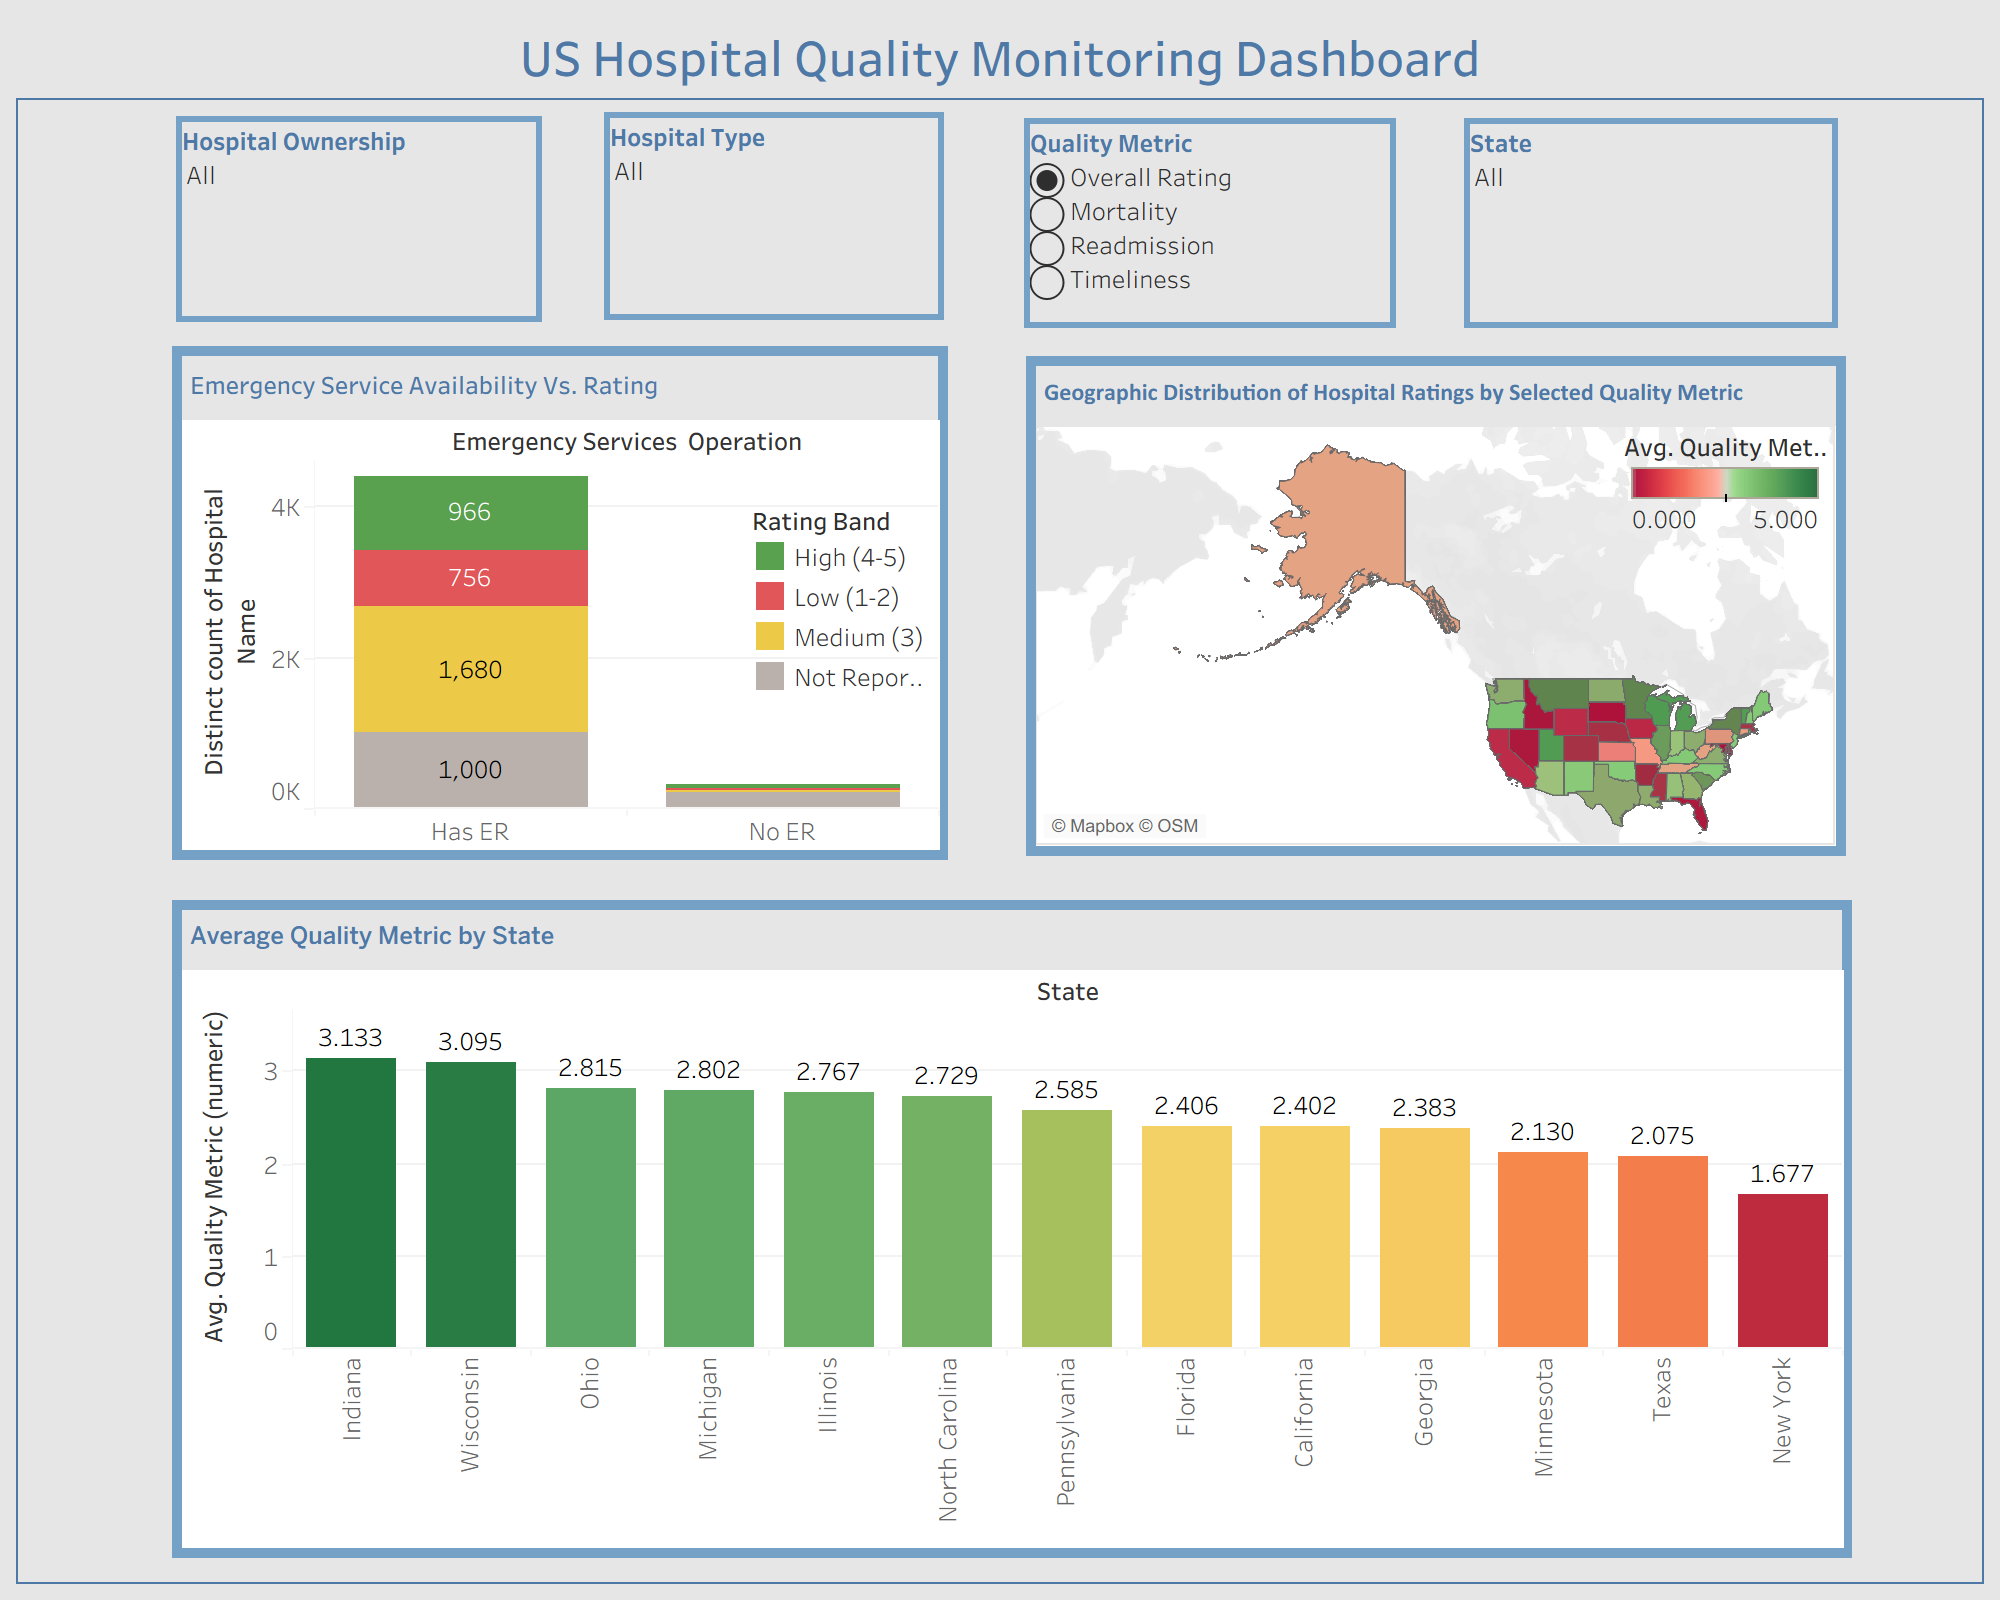

The dashboard page shown, as its layout file describes it:
{"tool":"tableau","page":{"name":"Dashboard 1","canvas":[1000,800],"ordinal":0},"visuals":[{"type":"title","box":[8,8,984,41]},{"type":"filter","title":"Emergency Service Availability Vs. Rating","param":"[federated.0gocs760camvu316ek4dy0u9ajy1].[none:Hospital Type:nk]","box":[302,56,170,104]},{"type":"filter","title":"Emergency Service Availability Vs. Rating","param":"[federated.0gocs760camvu316ek4dy0u9ajy1].[none:Hospital Ownership:nk]","box":[88,58,183,103]},{"type":"parameter","param":"[Parameters].[Provider ID Parameter]","box":[512,59,186,105]},{"type":"filter","title":"Emergency Service Availability Vs. Rating","param":"[federated.0gocs760camvu316ek4dy0u9ajy1].[none:State:nk]","box":[732,59,187,105]},{"type":"worksheet","title":"Emergency Service Availability Vs. Rating","mark":"Automatic","rows":["Hospital Name"],"cols":["Calculation_2316257628572966913"],"box":[86,173,388,257]},{"type":"worksheet","title":"Geographic Distribution of Hospital Rating","mark":"Automatic","box":[513,178,410,250]},{"type":"legend","title":"Geographic Distribution of Hospital Rating","param":"[federated.0gocs760camvu316ek4dy0u9ajy1].[avg:Calculation_2316257628575305733:qk","box":[812,211,102,55]},{"type":"legend","title":"Emergency Service Availability Vs. Rating","param":"[federated.0gocs760camvu316ek4dy0u9ajy1].[none:Calculation_2316257628575551494:n","box":[375,250,88,102]},{"type":"worksheet","title":"Overall Rating By State","mark":"Bar","rows":["Calculation_2316257628575305733"],"cols":["State"],"box":[86,450,840,329]}]}

Visuals, with their boxes in screenshot pixels (x1, y1, x2, y2), scaled from the page's 1000x800 canvas onto the 2000x1600 screenshot:
title: (16,16,1984,98)
"Emergency Service Availability Vs. Rating" filter: (604,112,944,320)
"Emergency Service Availability Vs. Rating" filter: (176,116,542,322)
parameter: (1024,118,1396,328)
"Emergency Service Availability Vs. Rating" filter: (1464,118,1838,328)
"Emergency Service Availability Vs. Rating" worksheet: (172,346,948,860)
"Geographic Distribution of Hospital Rating" worksheet: (1026,356,1846,856)
"Geographic Distribution of Hospital Rating" legend: (1624,422,1828,532)
"Emergency Service Availability Vs. Rating" legend: (750,500,926,704)
"Overall Rating By State" worksheet (Bar marks): (172,900,1852,1558)
